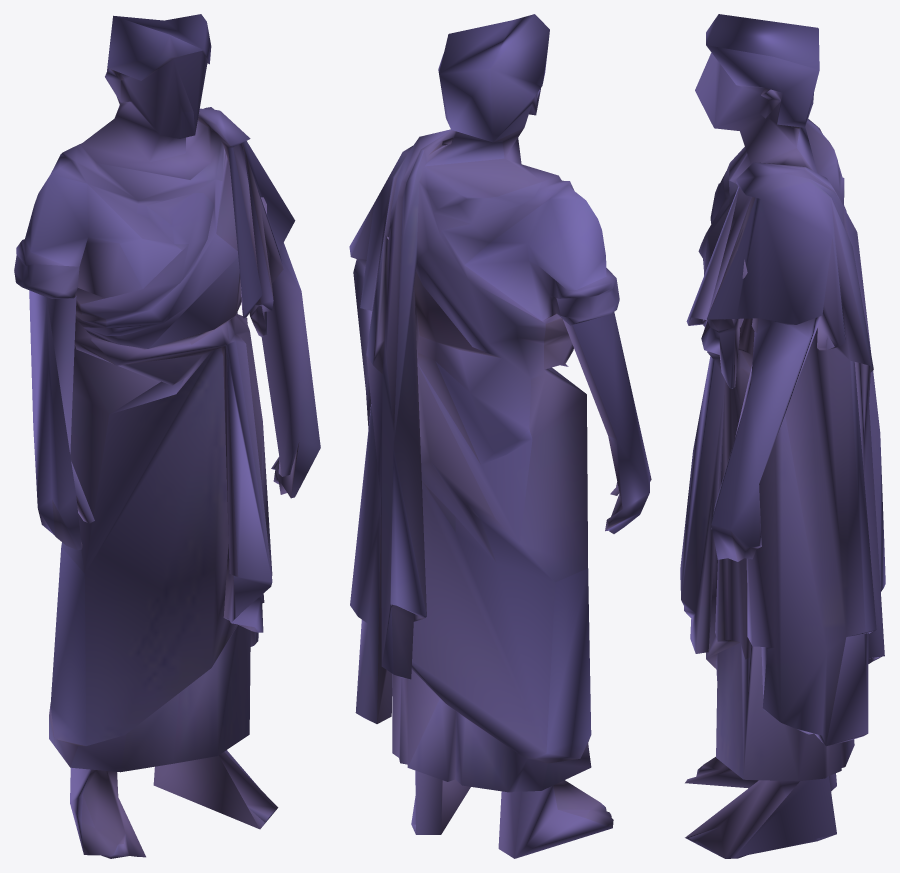
File: model.progressive.glb
3 renders of one model, left to right at view 1: azimuth 30°, elevation 25°; view 2: azimuth 150°, elevation 25°; view 3: azimuth 270°, elevation 25°, orthographic.
Visible parts, largest first — view 1: material; view 2: material; view 3: material.
Boxes of the visible parts, x1,y1,x2,y2 form: material: (14,14,320,858); material: (349,14,651,858); material: (680,14,885,858).
Bounding box in the file's own units: 0.6775 × 1.86 × 0.4375.
Materials: 1 (1 with a texture image).
